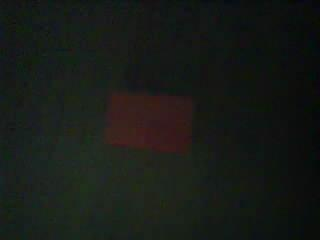lego: (100, 89, 200, 156)
